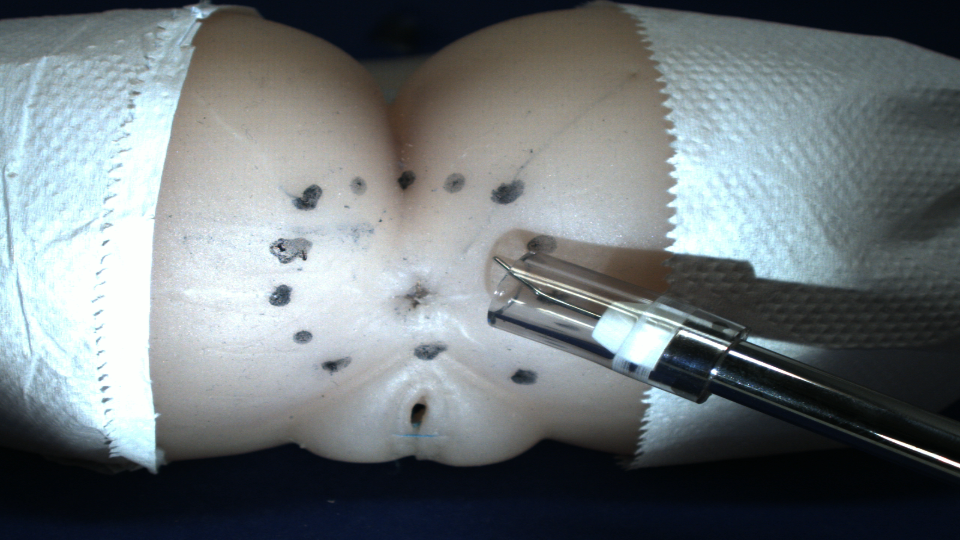asarp_marker: (406, 335, 454, 365), (293, 174, 326, 216), (488, 175, 525, 206), (525, 224, 554, 263), (321, 351, 356, 381), (272, 238, 312, 264), (506, 363, 539, 393), (269, 282, 298, 309), (344, 171, 370, 199), (390, 167, 421, 189), (443, 169, 469, 195), (292, 326, 316, 345)
